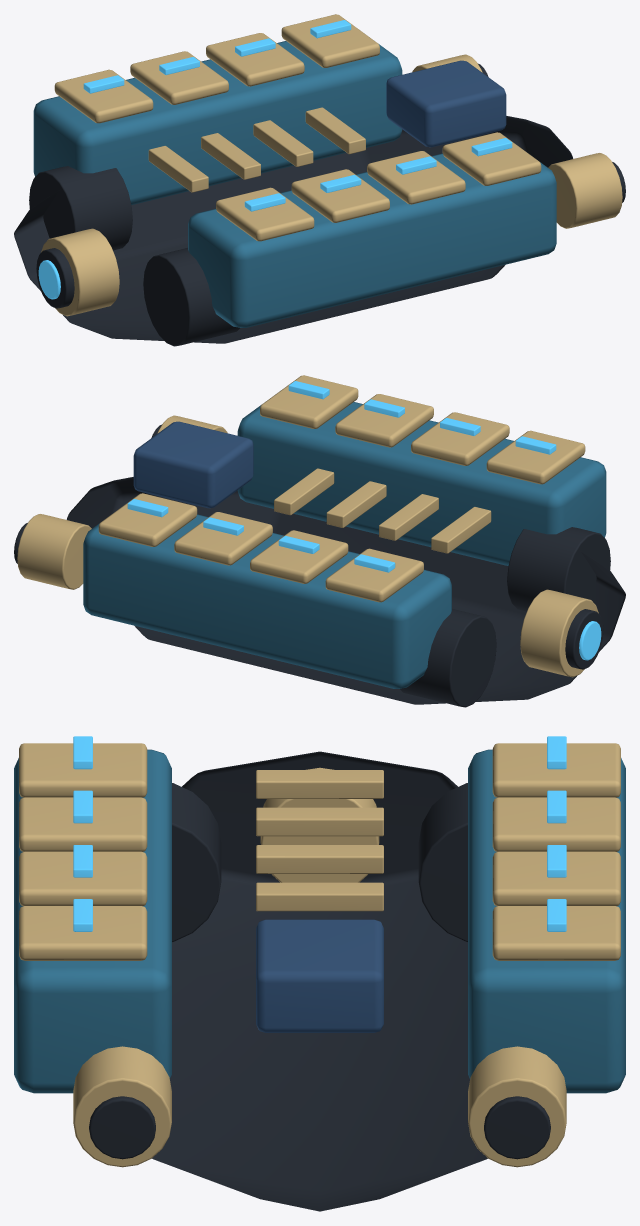
Rendered from spammer-v3.glb.
The picture shows the model from 3 angles, top to bottom: view 1: azimuth 30°, elevation 25°; view 2: azimuth 150°, elevation 25°; view 3: azimuth 270°, elevation 25°; orthographic projection. The views are drawn at different scales.
Parts seen in each view (by area): view 1: payload magazine, payload magazine.001, armoured packet freighter, freighter bridge, payload drum.001, payload drum, payload ejection aperture, main drive collar, magazine segmented lid.004, magazine segmented lid, magazine segmented lid.002, magazine segmented lid.003 (+18 smaller); view 2: payload magazine.001, payload magazine, armoured packet freighter, freighter bridge, payload drum, payload drum.001, payload ejection aperture.001, main drive collar, magazine segmented lid, magazine segmented lid.004, magazine segmented lid.006, magazine segmented lid.001 (+18 smaller); view 3: armoured packet freighter, payload magazine, payload magazine.001, freighter bridge, payload ejection aperture, payload ejection aperture.001, magazine segmented lid.003, magazine segmented lid.007, magazine segmented lid, magazine segmented lid.004, magazine segmented lid.001, magazine segmented lid.005 (+19 smaller).
Boxes of the visible parts, bbox=[...] form: payload magazine: bbox=[188, 153, 556, 327]; payload magazine.001: bbox=[33, 41, 402, 204]; armoured packet freighter: bbox=[14, 116, 573, 343]; freighter bridge: bbox=[386, 60, 506, 147]; payload drum.001: bbox=[29, 166, 132, 250]; payload drum: bbox=[143, 248, 239, 346]; payload ejection aperture: bbox=[548, 153, 622, 228]; main drive collar: bbox=[41, 228, 119, 316]; magazine segmented lid.004: bbox=[54, 69, 153, 123]; magazine segmented lid: bbox=[216, 187, 314, 241]; magazine segmented lid.002: bbox=[367, 151, 465, 204]; magazine segmented lid.003: bbox=[442, 132, 541, 185]; payload magazine.001: bbox=[83, 514, 451, 688]; payload magazine: bbox=[237, 402, 606, 565]; armoured packet freighter: bbox=[66, 477, 625, 704]; freighter bridge: bbox=[133, 421, 253, 508]; payload drum: bbox=[507, 527, 610, 611]; payload drum.001: bbox=[400, 609, 496, 707]; payload ejection aperture.001: bbox=[17, 514, 91, 589]; main drive collar: bbox=[520, 589, 598, 677]; magazine segmented lid: bbox=[486, 430, 585, 484]; magazine segmented lid.004: bbox=[325, 548, 423, 602]; magazine segmented lid.006: bbox=[174, 512, 272, 565]; magazine segmented lid.001: bbox=[411, 412, 509, 465]; armoured packet freighter: bbox=[152, 751, 487, 1211]; payload magazine: bbox=[14, 749, 171, 1093]; payload magazine.001: bbox=[468, 749, 625, 1093]; freighter bridge: bbox=[256, 919, 383, 1032]; payload ejection aperture: bbox=[73, 1046, 171, 1167]; payload ejection aperture.001: bbox=[468, 1046, 566, 1167]; magazine segmented lid.003: bbox=[19, 906, 147, 960]; magazine segmented lid.007: bbox=[492, 906, 620, 960]; magazine segmented lid: bbox=[19, 743, 147, 797]; magazine segmented lid.004: bbox=[492, 743, 620, 797]; magazine segmented lid.001: bbox=[19, 797, 147, 851]; magazine segmented lid.005: bbox=[492, 797, 620, 851].
Bounding box in the file's own units: 86.5 × 29.5 × 62.
